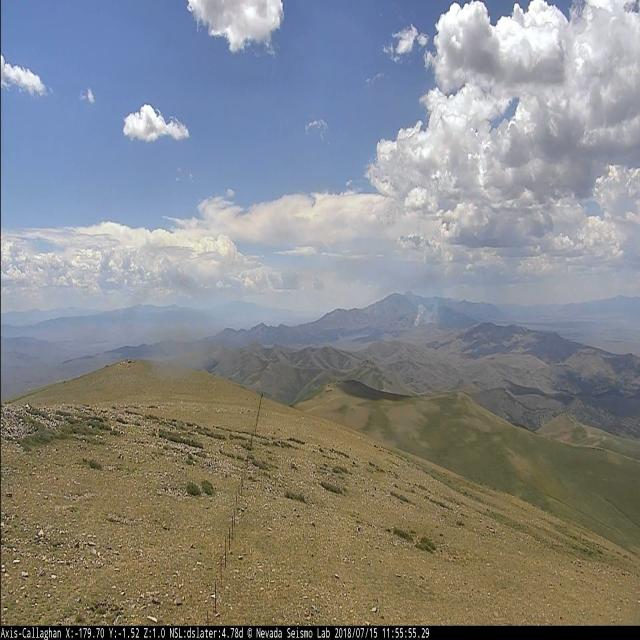smoke: (412, 290, 439, 330)
